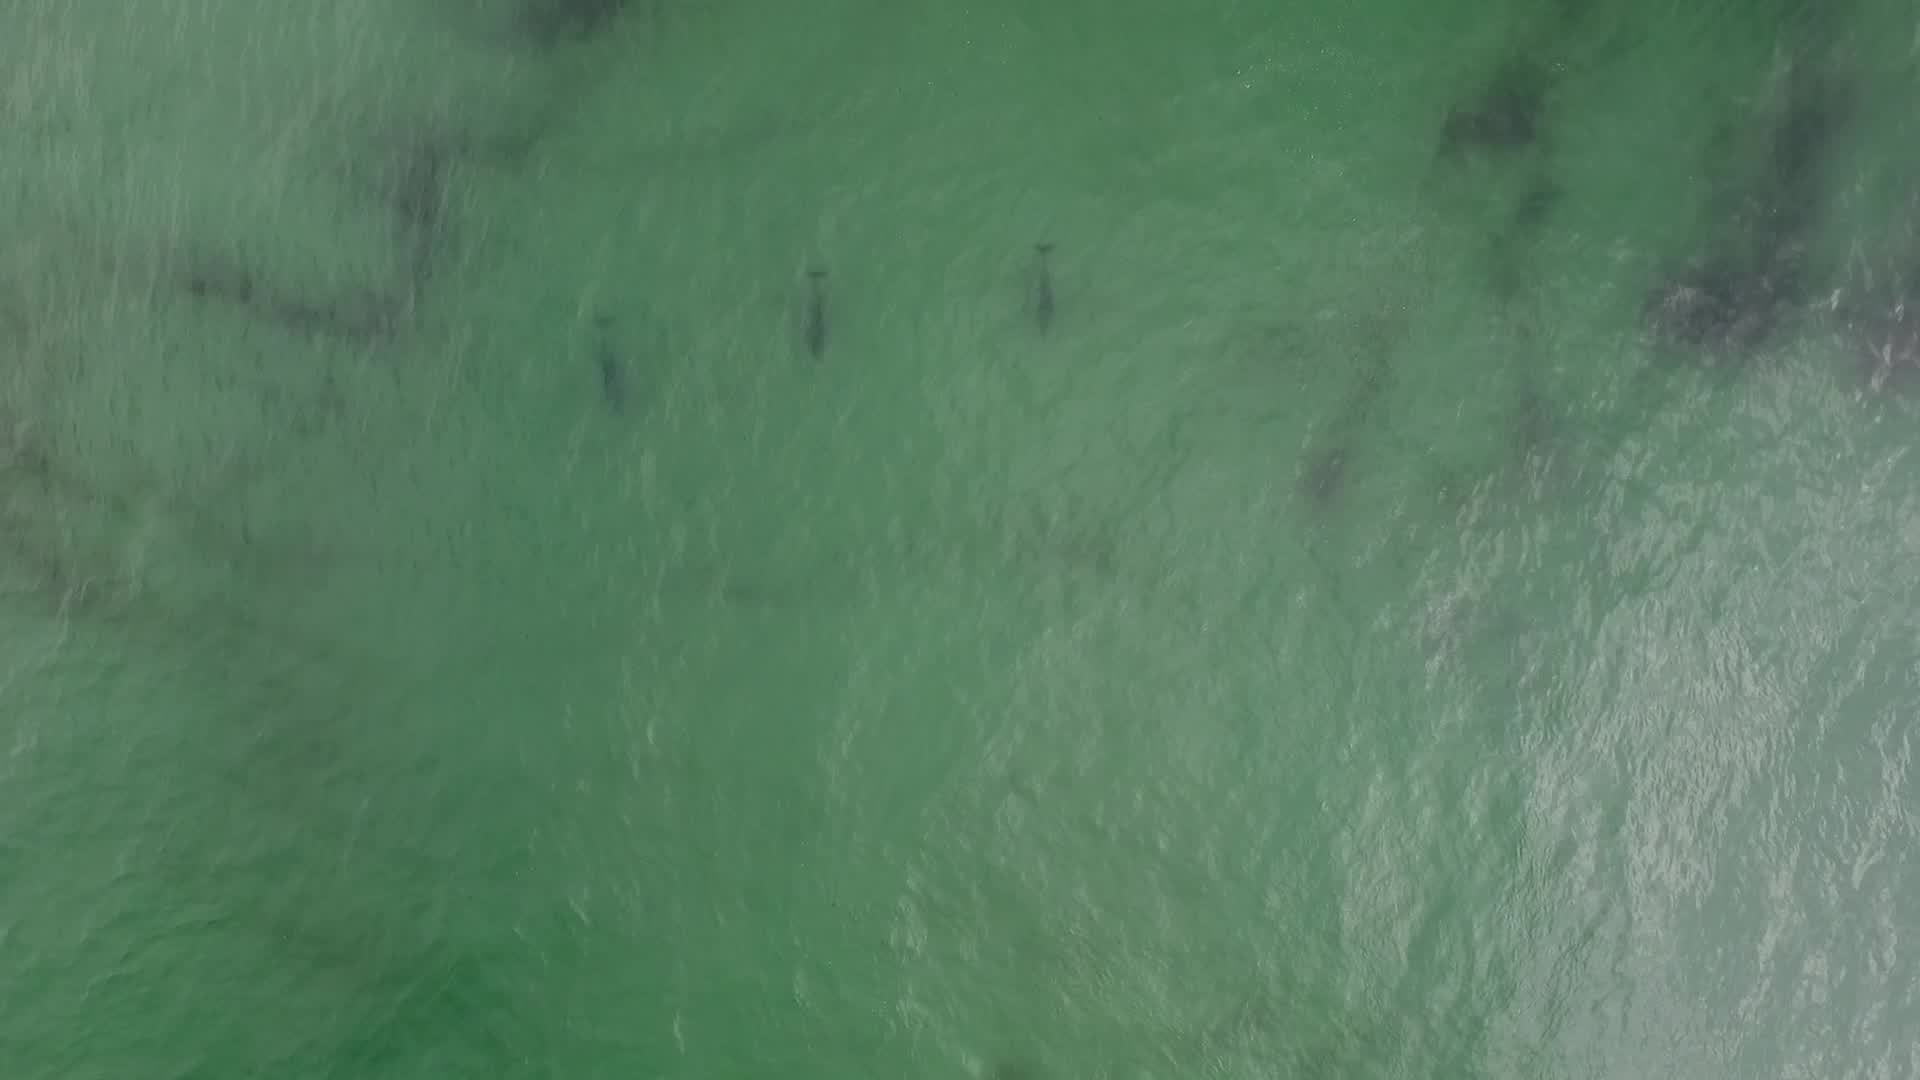dolphin: (567, 294, 645, 434), (769, 249, 851, 375), (1015, 225, 1072, 343)
